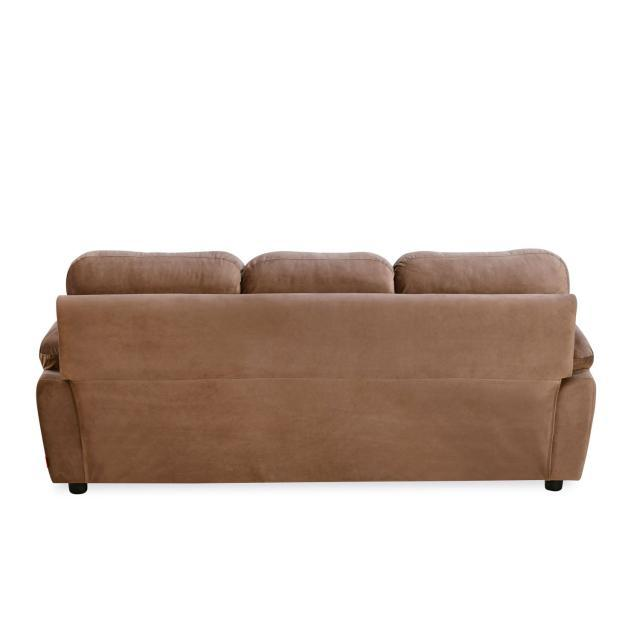sofa: (36, 246, 596, 494)
